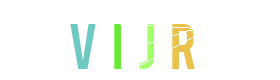I: (92, 0, 172, 80)
J: (100, 0, 180, 80)
R: (141, 0, 221, 80)
V: (42, 0, 122, 80)
